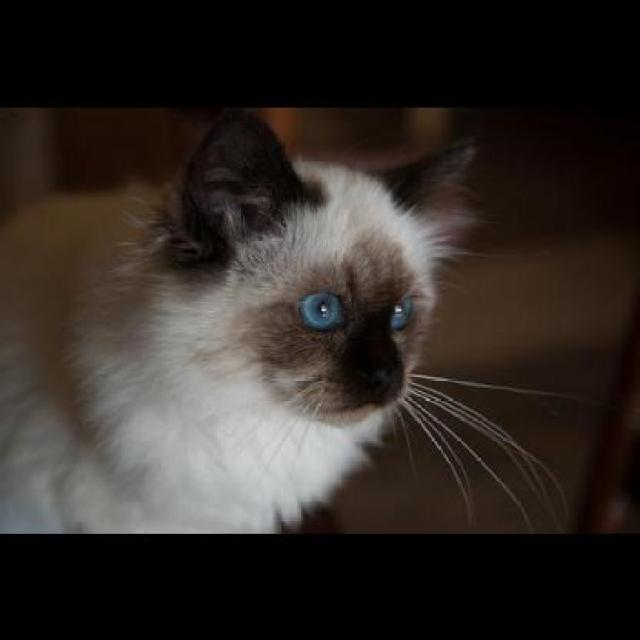unauthorized: (0, 106, 572, 535)
